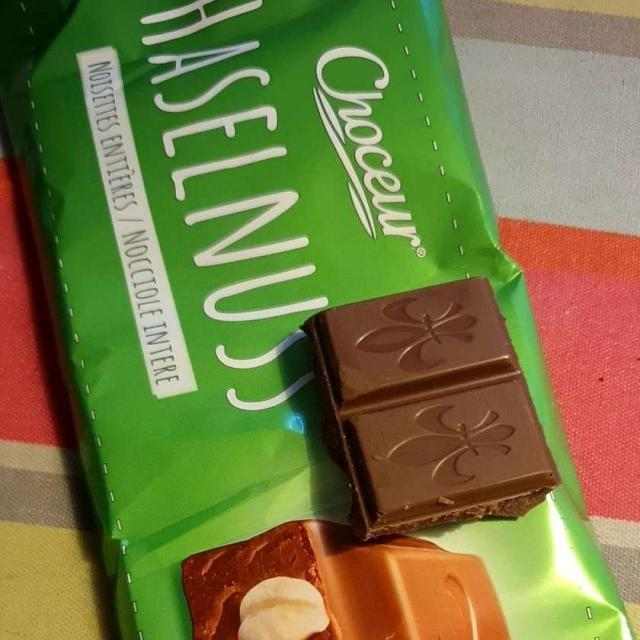chocolate: (293, 267, 569, 539)
